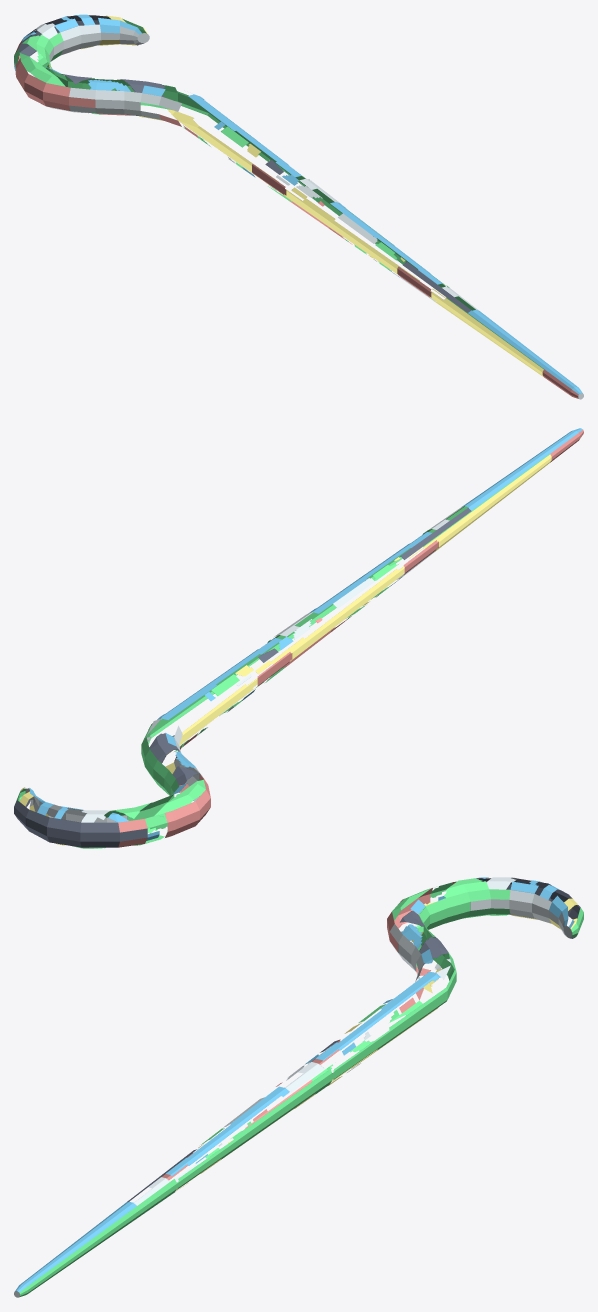
Rendered from staff.fbx.
The picture shows the model from 3 angles, top to bottom: view 1: azimuth 30°, elevation 25°; view 2: azimuth 150°, elevation 25°; view 3: azimuth 330°, elevation 25°; orthographic projection. The views are drawn at different scales.
Parts seen in each view (by area): view 1: cylinder; view 2: cylinder; view 3: cylinder.
Part boxes in pixels (x1=…): cylinder: x1=14, y1=14, x2=583, y2=399; cylinder: x1=14, y1=428, x2=583, y2=848; cylinder: x1=14, y1=877, x2=583, y2=1297.
Bounding box in the file's own units: 474 × 100 × 2877.
Materials: 1 (1 with a texture image).
